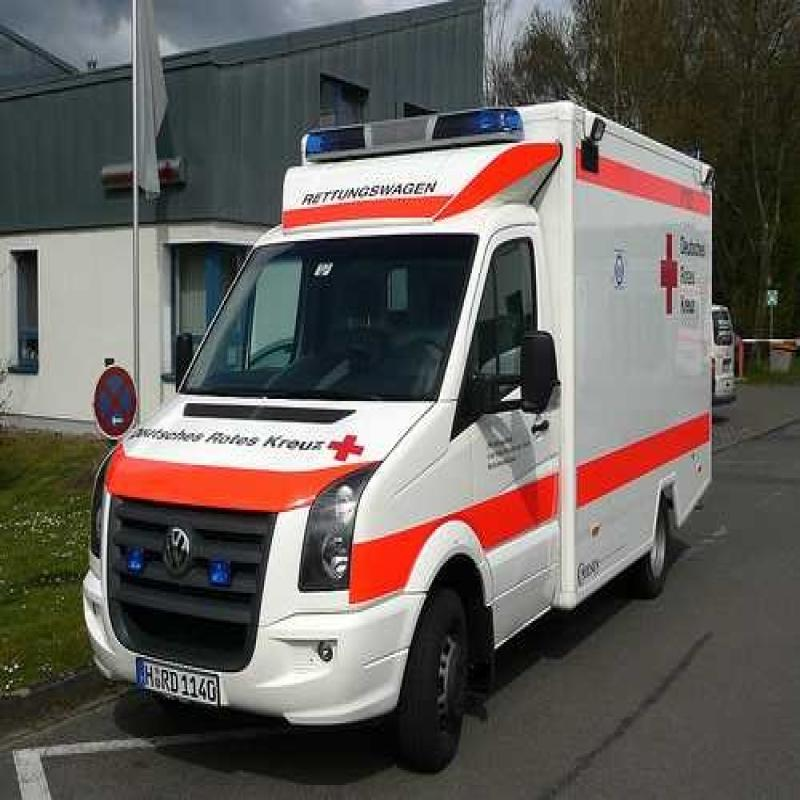AmbulanceSiren: (275, 102, 536, 167)
